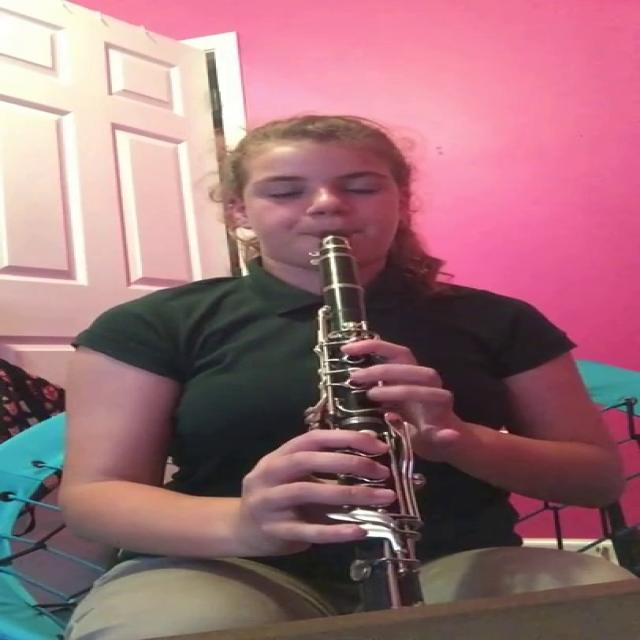Clarinet: (306, 228, 460, 624)
